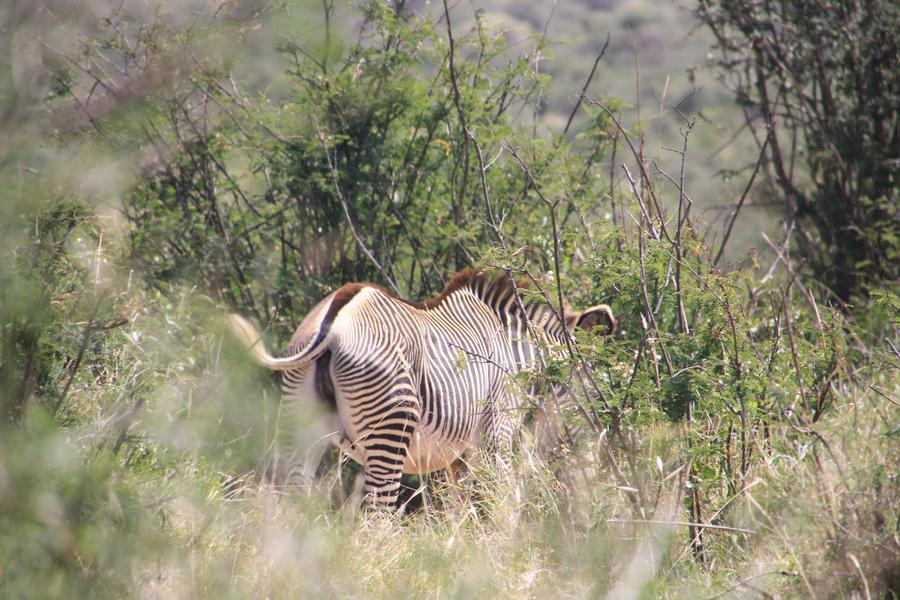zebra_grevys: (315, 258, 528, 447)
